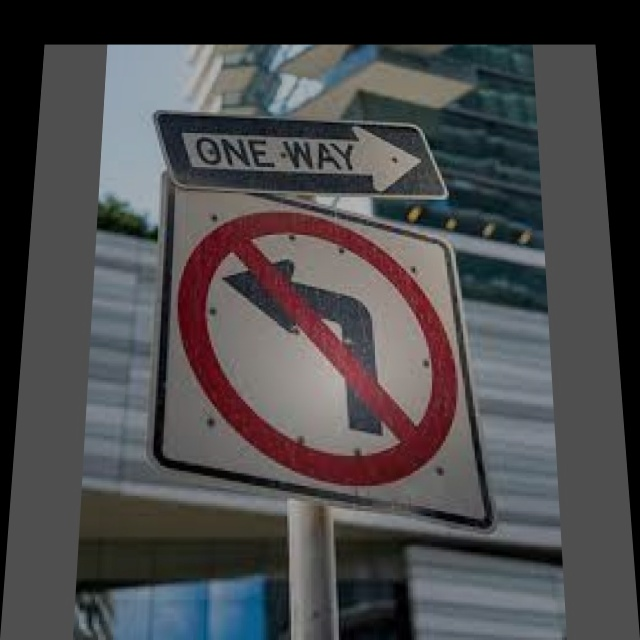Left_Turn_Prohibited: (168, 192, 469, 493)
